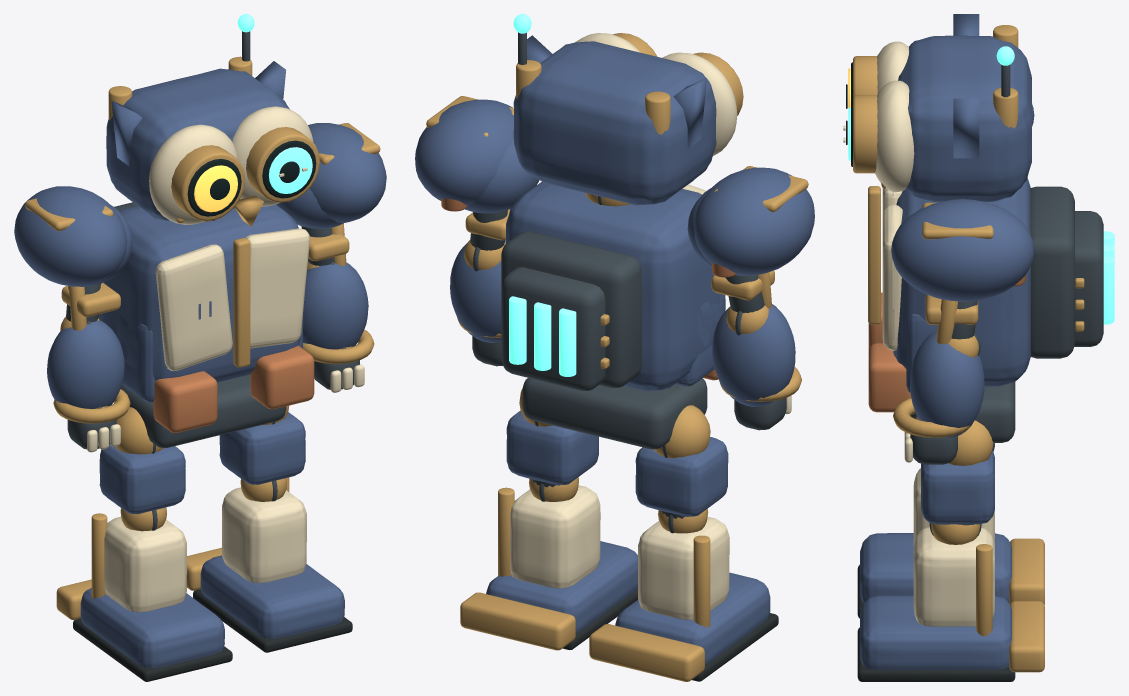
Rendered from owl_ranger.t4.glb.
3 views of the same model, side by side, from view 1: azimuth 30°, elevation 25°; view 2: azimuth 150°, elevation 25°; view 3: azimuth 270°, elevation 25° (orthographic). The views are drawn at different scales.
Parts seen in each view (by area): view 1: slot_torso__clay_warm_ivory__clay, slot_torso__clay_midnight_indigo__clay, slot_legL__clay_midnight_indigo__clay, slot_legR__clay_midnight_indigo__clay, slot_head__clay_midnight_indigo__clay, slot_armL__clay_midnight_indigo__clay, slot_legR__clay_warm_ivory__clay, slot_armR__clay_midnight_indigo__clay, slot_legL__clay_warm_ivory__clay, slot_torso__burnished_copper__protected, slot_head__clay_warm_ivory__clay, armL_elbow__clay_midnight_indigo__clay (+20 smaller); view 2: slot_torso__forged_bluelead_steel__protected, slot_head__clay_midnight_indigo__clay, slot_torso__clay_midnight_indigo__clay, slot_legL__clay_midnight_indigo__clay, slot_legR__clay_midnight_indigo__clay, slot_armL__clay_midnight_indigo__clay, slot_armR__clay_midnight_indigo__clay, slot_legL__worn_warm_brass__protected, slot_legR__clay_warm_ivory__clay, slot_legL__clay_warm_ivory__clay, slot_legR__worn_warm_brass__protected, armL_elbow__clay_midnight_indigo__clay (+13 smaller); view 3: slot_head__clay_midnight_indigo__clay, slot_torso__forged_bluelead_steel__protected, slot_legR__clay_midnight_indigo__clay, slot_armR__clay_midnight_indigo__clay, slot_torso__clay_midnight_indigo__clay, slot_legR__worn_warm_brass__protected, slot_legR__clay_warm_ivory__clay, armR_elbow__clay_midnight_indigo__clay, slot_head__clay_warm_ivory__clay, slot_legL__clay_midnight_indigo__clay, slot_head__worn_warm_brass__protected, slot_armR__worn_warm_brass__protected (+12 smaller).
Part boxes in pixels (box(x1,y1,x2,y2)): slot_torso__clay_warm_ivory__clay: box(155, 228, 309, 370); slot_torso__clay_midnight_indigo__clay: box(99, 204, 303, 402); slot_legL__clay_midnight_indigo__clay: box(80, 444, 224, 668); slot_legR__clay_midnight_indigo__clay: box(200, 412, 344, 639); slot_head__clay_midnight_indigo__clay: box(106, 68, 289, 220); slot_armL__clay_midnight_indigo__clay: box(14, 186, 132, 286); slot_legR__clay_warm_ivory__clay: box(221, 487, 306, 582); slot_armR__clay_midnight_indigo__clay: box(276, 123, 386, 228); slot_legL__clay_warm_ivory__clay: box(104, 516, 186, 612); slot_torso__burnished_copper__protected: box(153, 345, 314, 432); slot_head__clay_warm_ivory__clay: box(149, 106, 313, 224); armL_elbow__clay_midnight_indigo__clay: box(47, 320, 124, 408); slot_torso__forged_bluelead_steel__protected: box(501, 196, 707, 449); slot_head__clay_midnight_indigo__clay: box(513, 41, 716, 205); slot_torso__clay_midnight_indigo__clay: box(506, 181, 725, 391); slot_legL__clay_midnight_indigo__clay: box(615, 437, 770, 664); slot_legR__clay_midnight_indigo__clay: box(486, 410, 637, 632); slot_armL__clay_midnight_indigo__clay: box(687, 167, 814, 275); slot_armR__clay_midnight_indigo__clay: box(415, 99, 539, 213); slot_legL__worn_warm_brass__protected: box(589, 405, 710, 681); slot_legR__clay_warm_ivory__clay: box(510, 485, 600, 588); slot_legL__clay_warm_ivory__clay: box(638, 517, 729, 619); slot_legR__worn_warm_brass__protected: box(460, 388, 578, 650); armL_elbow__clay_midnight_indigo__clay: box(712, 304, 795, 406); slot_head__clay_midnight_indigo__clay: box(898, 35, 1031, 201); slot_torso__forged_bluelead_steel__protected: box(910, 186, 1103, 442); slot_legR__clay_midnight_indigo__clay: box(860, 450, 1011, 669); slot_armR__clay_midnight_indigo__clay: box(891, 199, 1034, 301); slot_torso__clay_midnight_indigo__clay: box(893, 177, 1030, 392); slot_legR__worn_warm_brass__protected: box(931, 420, 1044, 672); slot_legR__clay_warm_ivory__clay: box(913, 527, 994, 626); armR_elbow__clay_midnight_indigo__clay: box(910, 331, 984, 437); slot_head__clay_warm_ivory__clay: box(875, 41, 914, 192); slot_legL__clay_midnight_indigo__clay: box(860, 443, 1011, 603); slot_head__worn_warm_brass__protected: box(853, 25, 1018, 188); slot_armR__worn_warm_brass__protected: box(922, 202, 993, 357).
Size of the model in its own units: 1.92 by 3.02 by 1.21.
